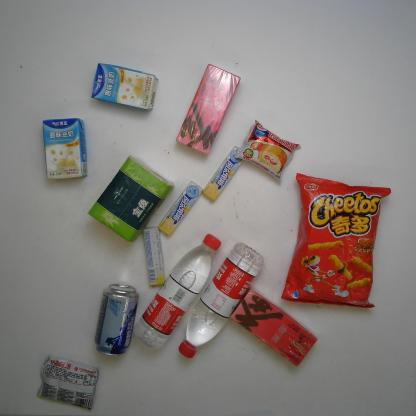Alcohol: (89, 281, 142, 357)
Candy: (202, 138, 249, 210), (158, 182, 208, 238), (140, 224, 172, 286)
Dessert: (238, 115, 297, 184), (34, 356, 104, 406)
Drink: (131, 231, 221, 358), (179, 240, 265, 361)
Instant Drink: (226, 288, 318, 369), (174, 61, 243, 155)
Milk: (83, 61, 168, 120), (43, 111, 92, 188)
Puffed Food: (278, 172, 394, 313)
Tissue: (79, 154, 175, 253)
